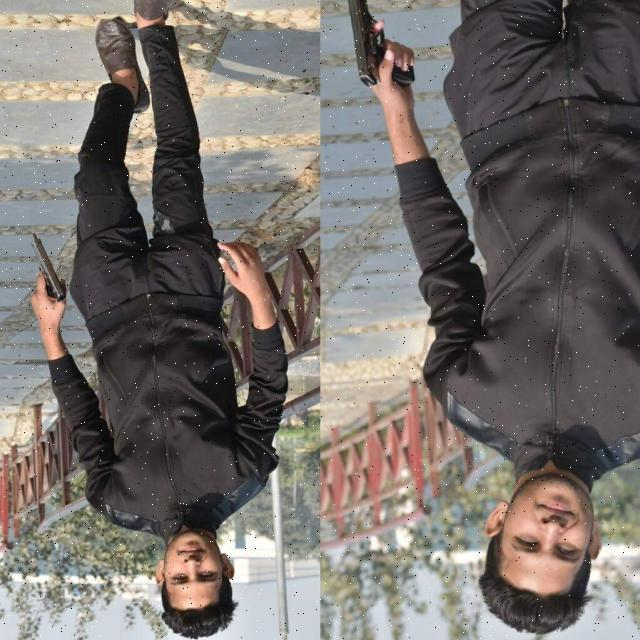gun: (332, 0, 423, 100), (18, 227, 79, 313)
